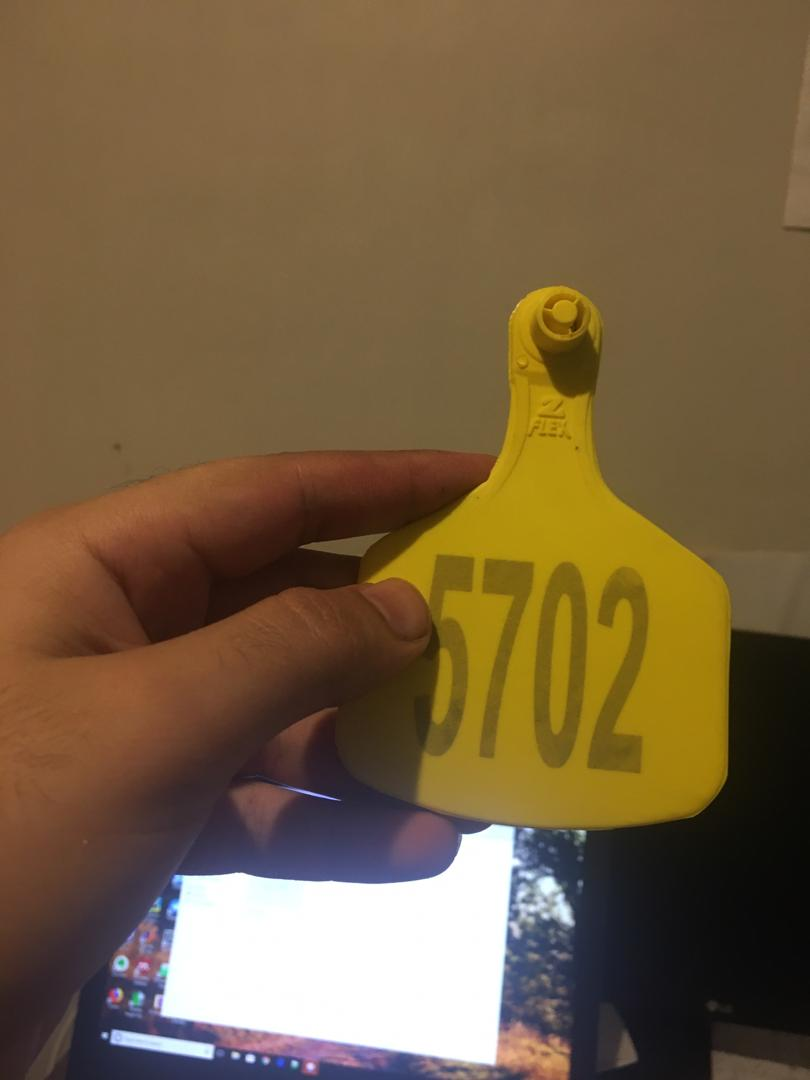digit: (423, 550, 655, 778)
